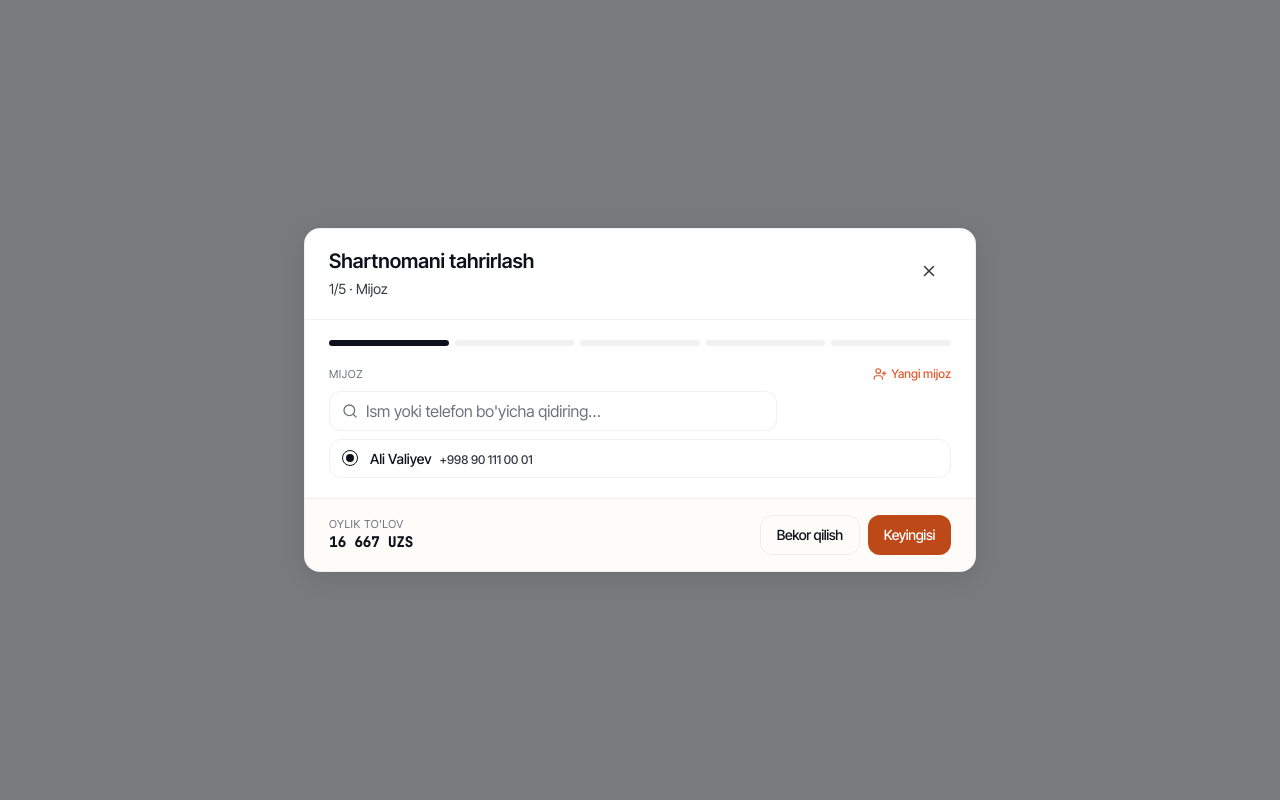
Test: a contract line records its category › (MUDD-92 H1) an existing line keeps a since-retired category visible, not blank
The width and height of the screenshot is (1280, 800).
# Step 0 (customer) is already satisfied by the prefill — just advance.
Click the button "Keyingisi" at (909, 535), box [868,515,951,555]
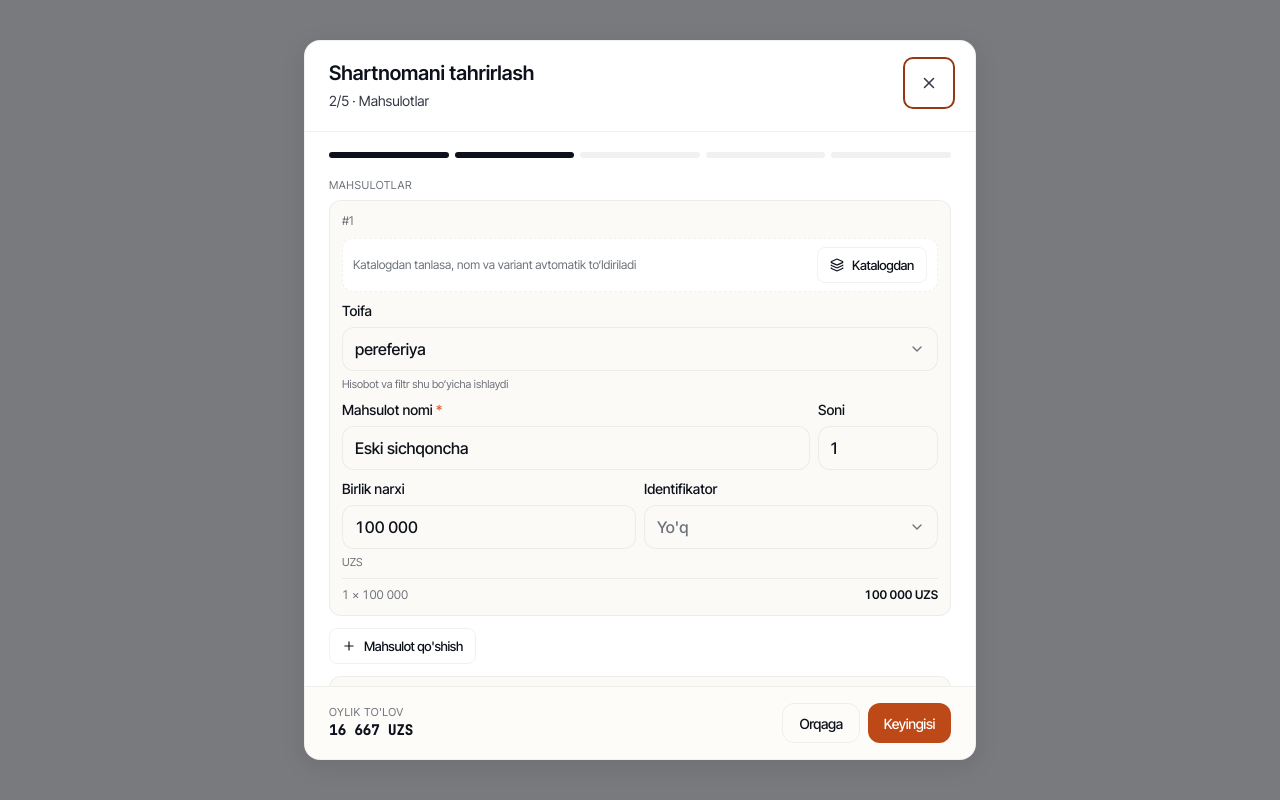
Result: the dropdown named "Toifa" reads "pereferiya" at [342,327,938,371]
